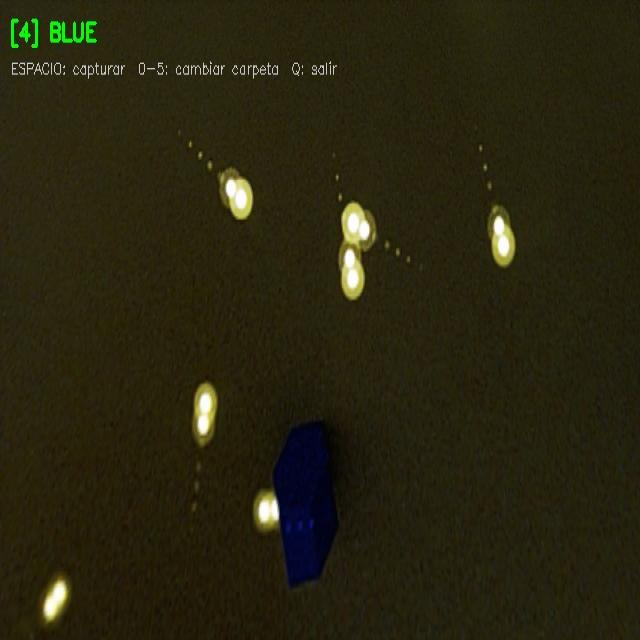blue: (272, 416, 339, 591)
